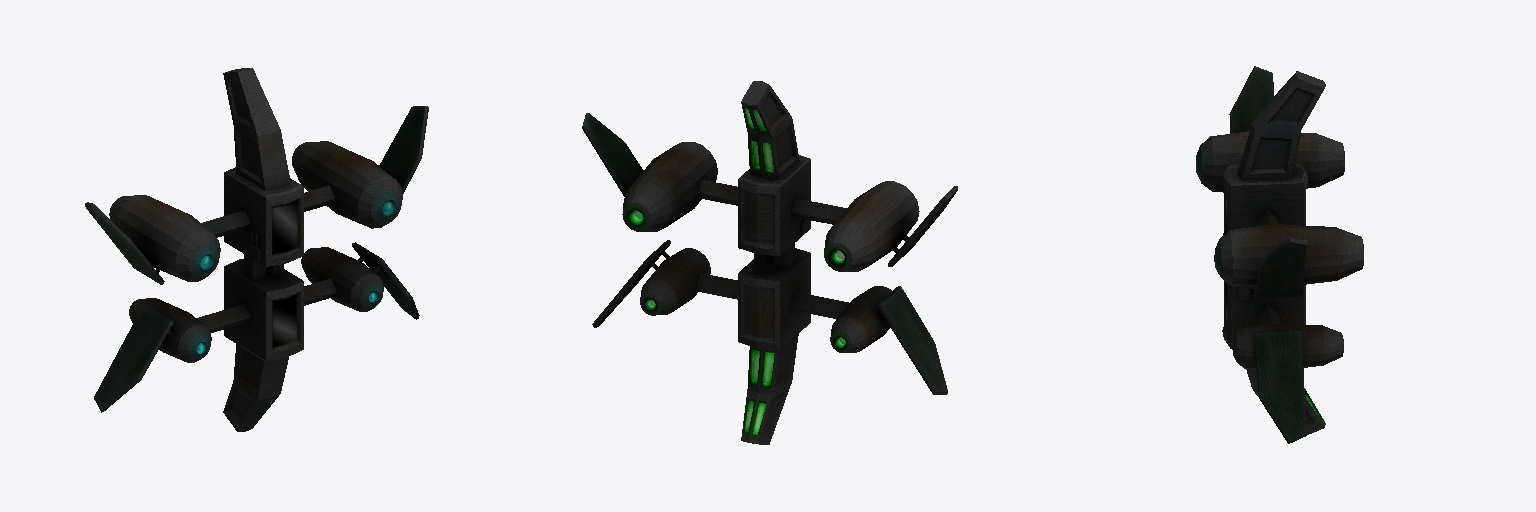
3 views of the same model, side by side, from view 1: azimuth 30°, elevation 25°; view 2: azimuth 150°, elevation 25°; view 3: azimuth 270°, elevation 25° (orthographic).
Visible parts, largest first — view 1: Cube.001; view 2: Cube.001; view 3: Cube.001.
Boxes of the visible parts, <box> form: Cube.001: <box>85,68,428,431</box>; Cube.001: <box>582,81,957,444</box>; Cube.001: <box>1196,66,1363,443</box>.
Size of the model in its own units: 17.47 by 16.99 by 7.19.
Materials: 1 (1 with a texture image).